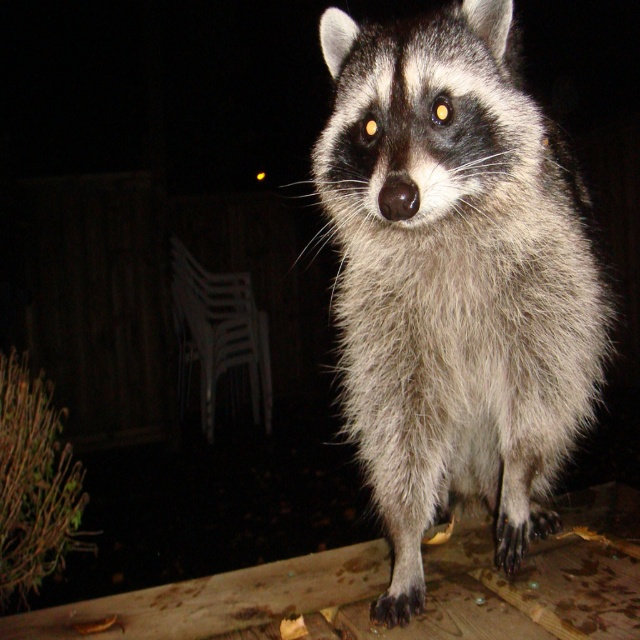Raccoon: (281, 0, 620, 629)
